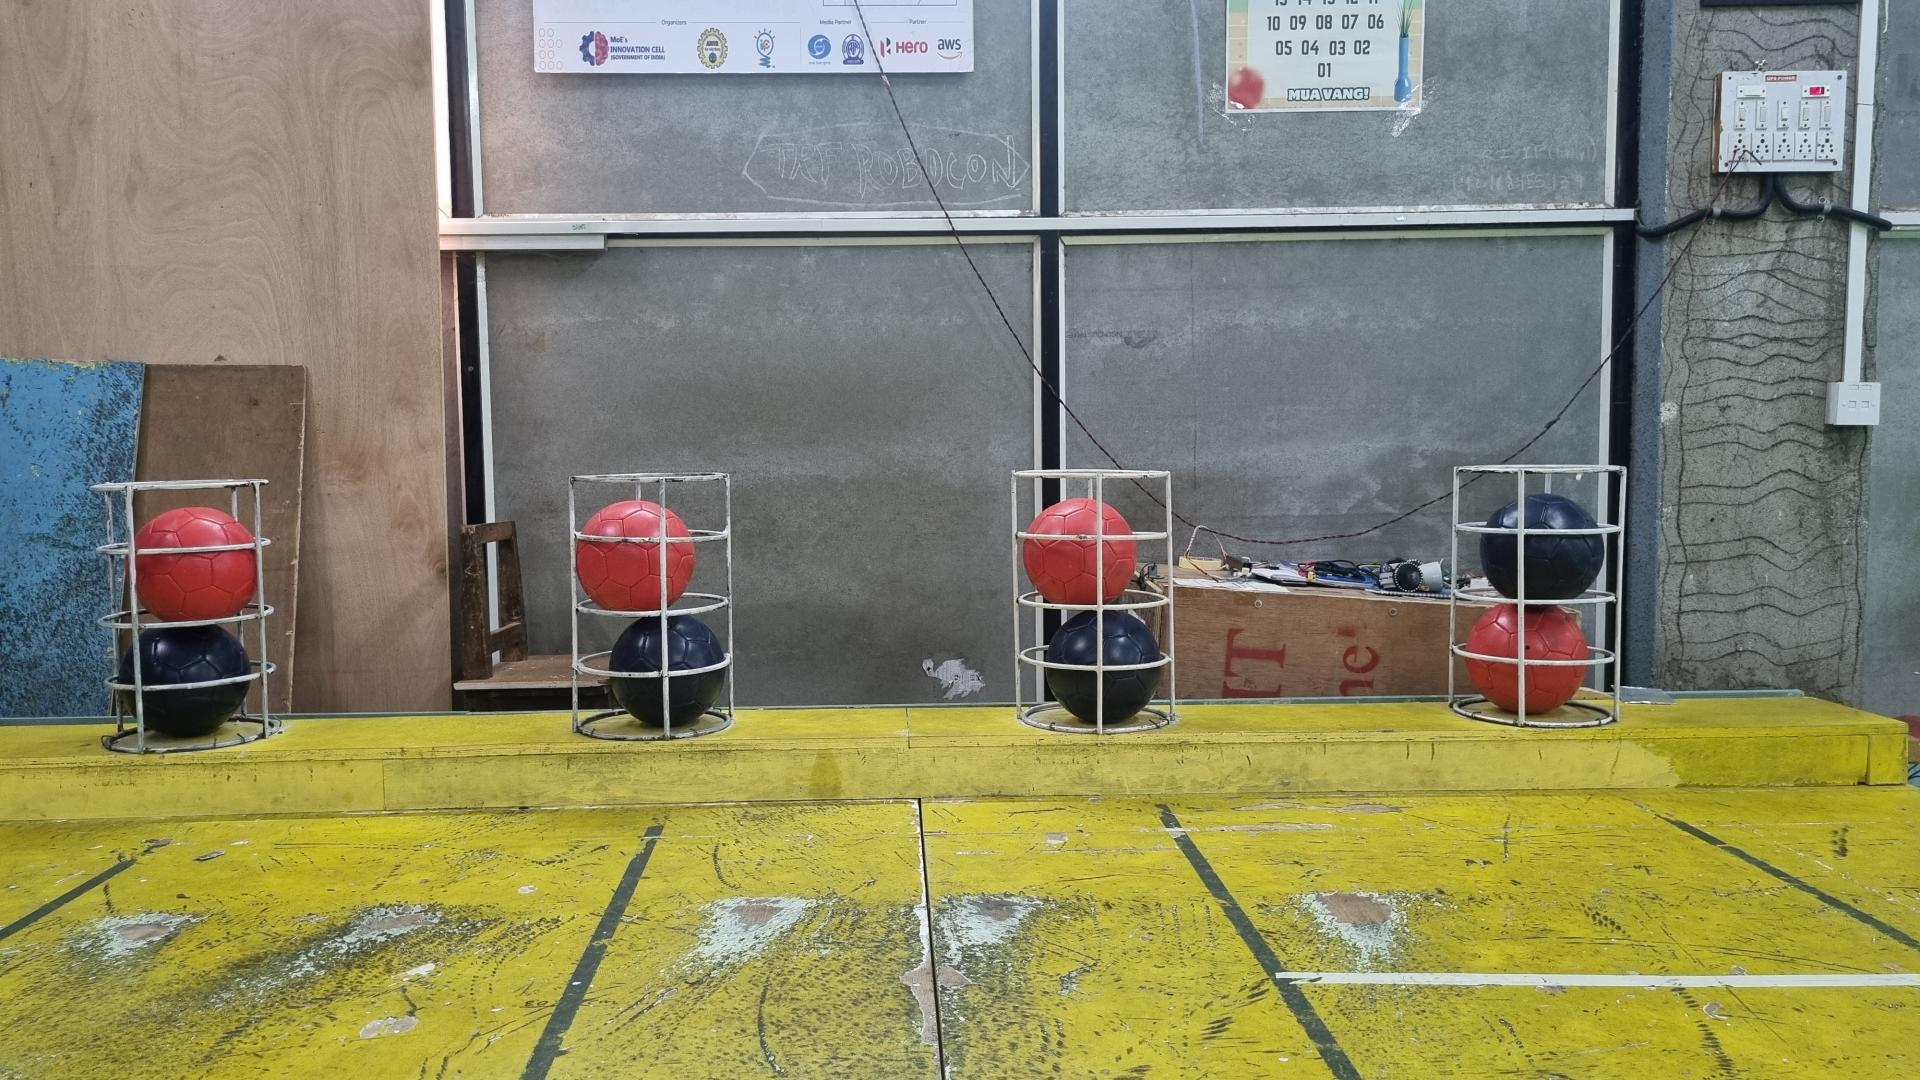dhoka: (116, 625, 252, 738), (1477, 495, 1605, 603), (1046, 611, 1163, 727), (608, 615, 728, 727)
laale: (132, 506, 258, 622), (1466, 603, 1590, 716), (578, 498, 694, 611), (1023, 498, 1137, 607)
